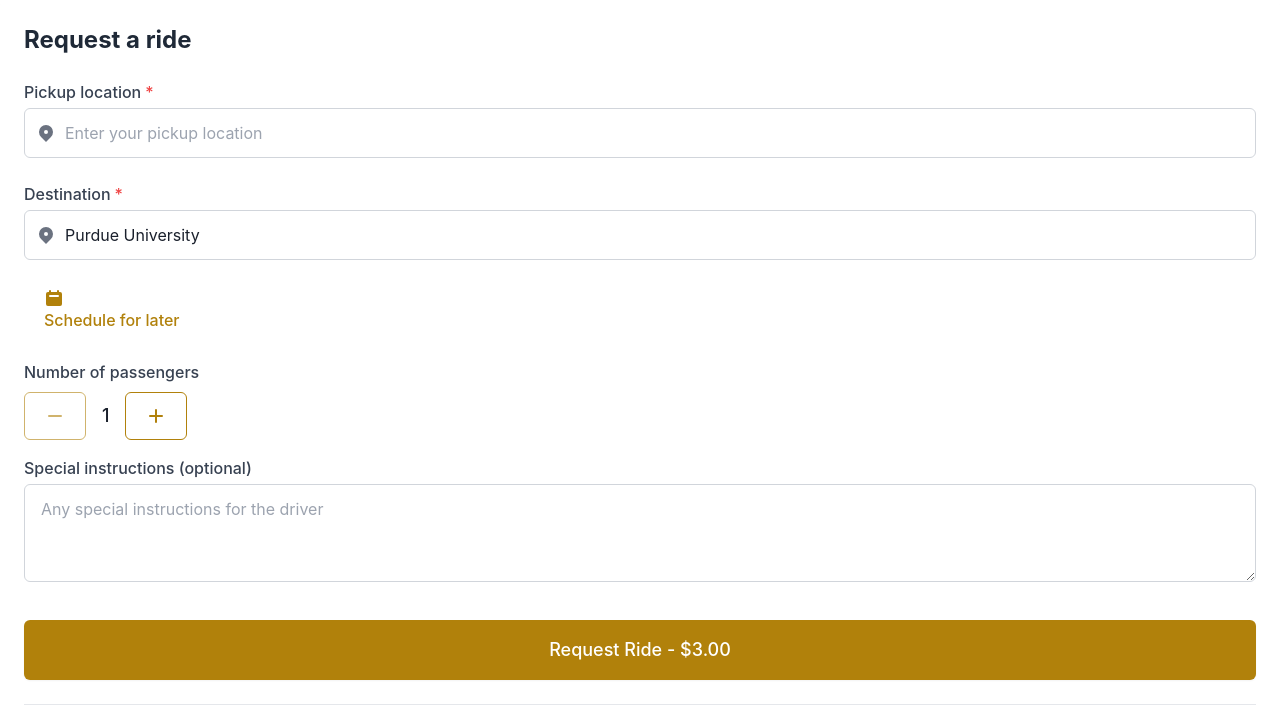
Test: RideRequestForm › toggles schedule options when clicked
Expected: the field labelled "Date" is not shown
// Click the schedule button
Click the button "Schedule for later": (112, 310) [24,276,200,344]
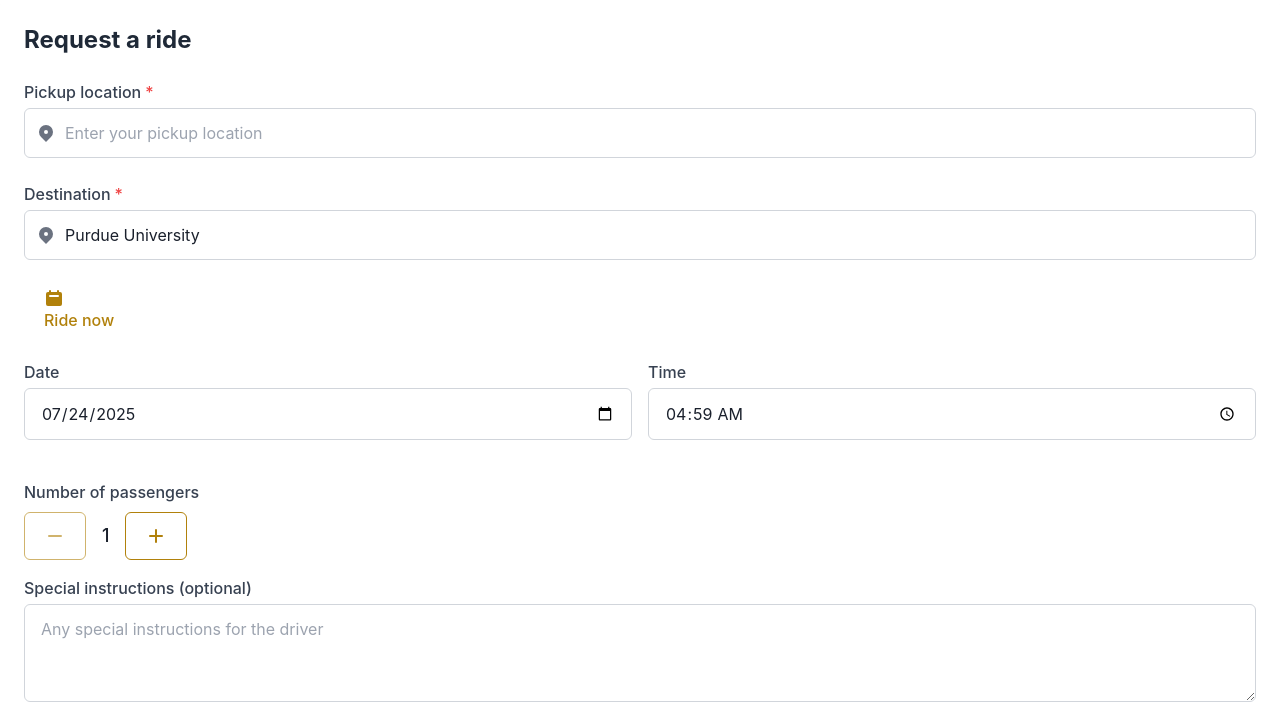
Result: the date field labelled "Date" is shown at [24,388,632,440]
Result: the time field labelled "Time" is shown at [648,388,1256,440]
// Click the button again
Click the button "Ride now": (79, 310) [24,276,134,344]
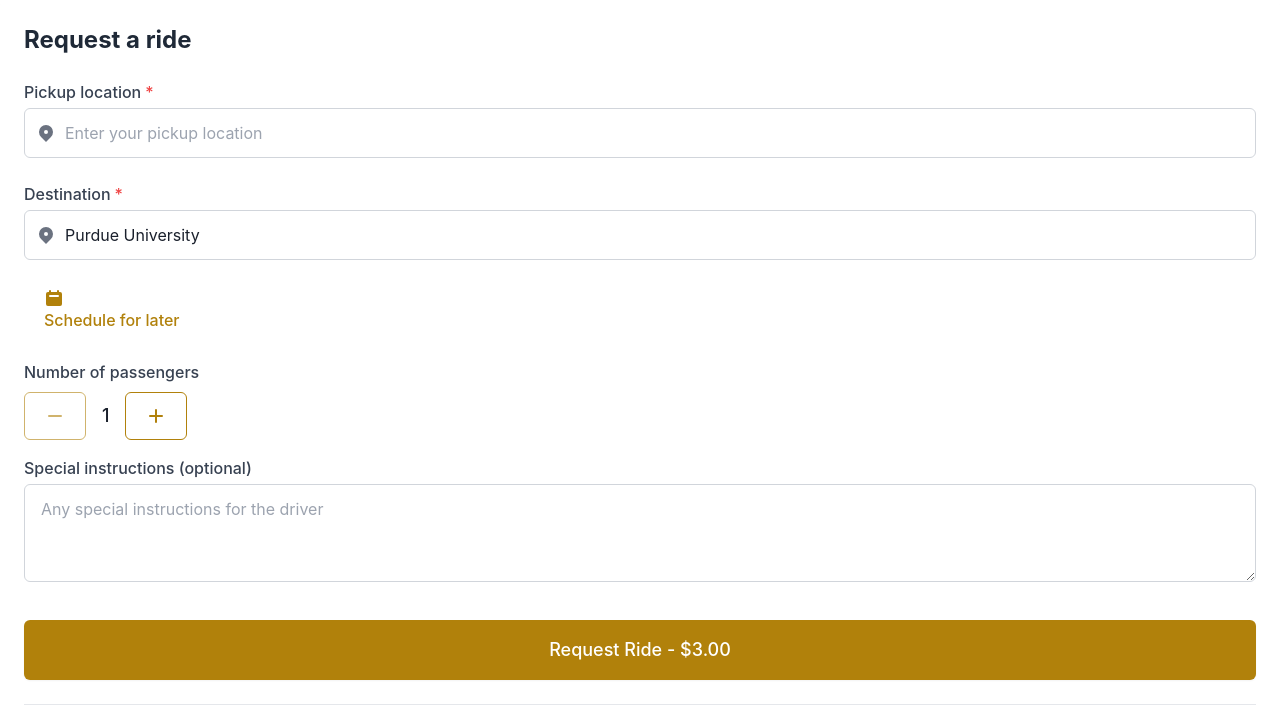
Result: the label labelled "Date" is gone
